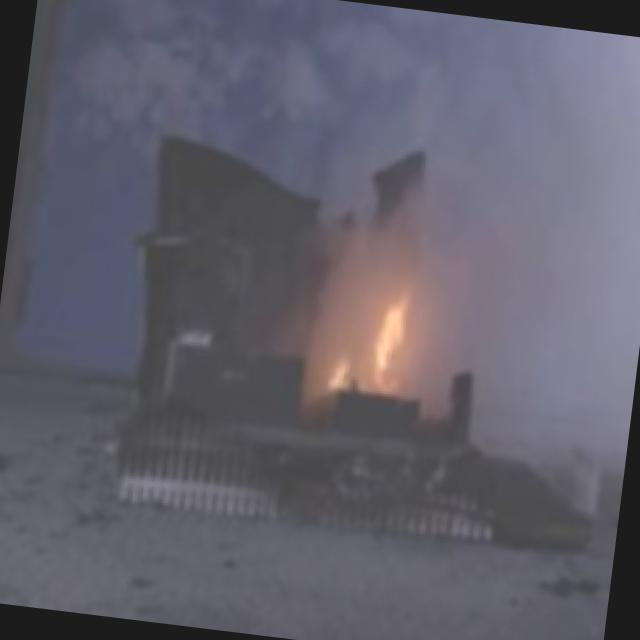fire: (322, 239, 451, 412)
smoke: (438, 20, 640, 303)
